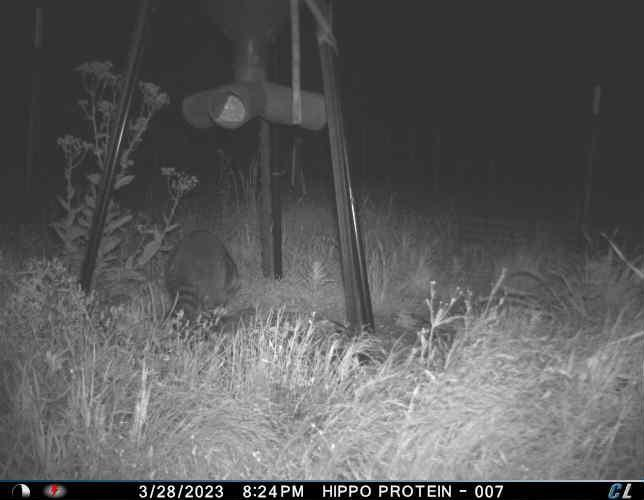Raccoon: (161, 225, 242, 331)
